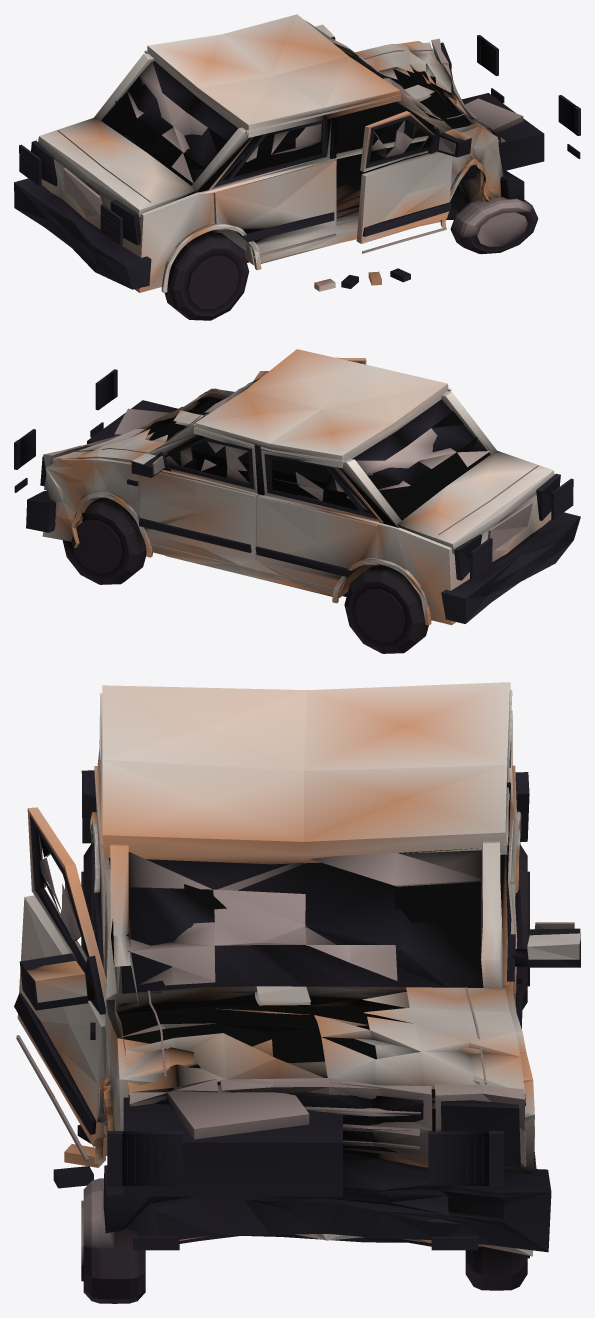
Rendered from veh.sedan-white.wrecked.glb.
The picture shows the model from 3 angles, top to bottom: view 1: azimuth 30°, elevation 25°; view 2: azimuth 150°, elevation 25°; view 3: azimuth 270°, elevation 25°; orthographic projection. The views are drawn at different scales.
Visible parts, largest first — view 1: body, wheelRL, wheelFL; view 2: body, wheelRR, wheelFR; view 3: body, wheelFL, wheelFR, wheelRR, wheelRL.
Boxes of the visible parts, left/top/right/bottom form: body: left=14, top=14, right=580, bottom=292; wheelRL: left=164, top=232, right=249, bottom=320; wheelFL: left=450, top=196, right=538, bottom=254; body: left=14, top=349, right=580, bottom=625; wheelRR: left=344, top=566, right=428, bottom=653; wheelFR: left=62, top=497, right=146, bottom=584; body: left=14, top=682, right=580, bottom=1256; wheelFL: left=81, top=1178, right=145, bottom=1303; wheelFR: left=465, top=1246, right=529, bottom=1290; wheelRR: left=518, top=844, right=529, bottom=1009; wheelRL: left=81, top=842, right=94, bottom=957.
Bounding box in the file's own units: 4.65 × 1.79 × 2.47.
